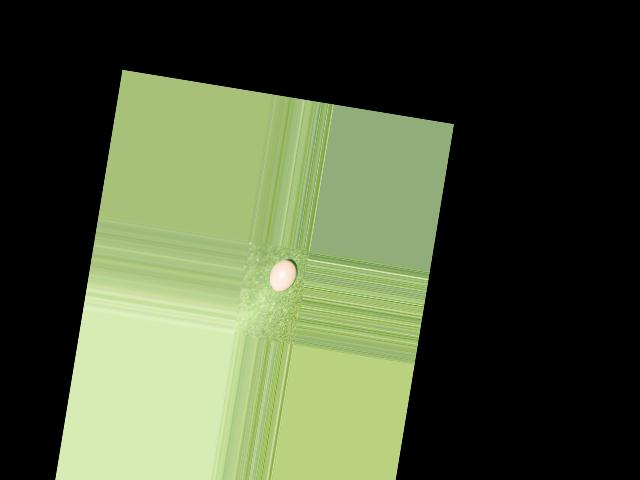egg: (268, 257, 299, 294)
